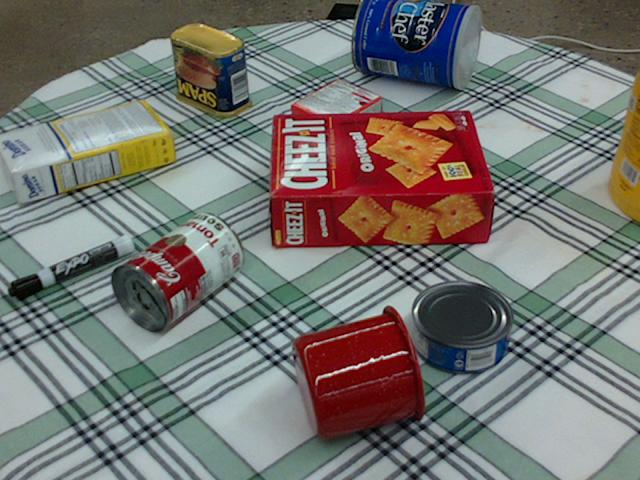cracker_box: (269, 109, 492, 246)
gelatin_box: (289, 76, 381, 143)
large_marker: (6, 234, 132, 300)
master_chef_can: (351, 0, 479, 88)
mug: (290, 301, 428, 441)
mustard_bottle: (607, 67, 639, 222)
potted_meat_can: (170, 23, 251, 116)
sugar_box: (0, 100, 174, 202)
tomato_soup_can: (110, 210, 243, 330)
tuna_fish_can: (412, 279, 514, 373)
